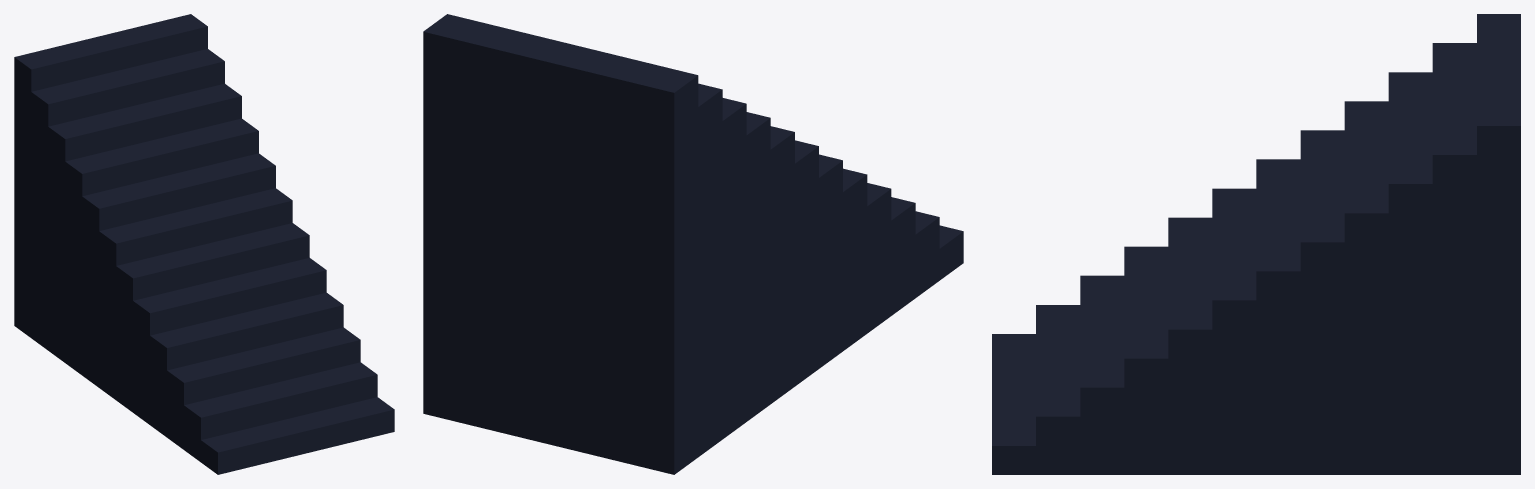
Rendered from Stairs_Straight.obj.
The picture shows the model from 3 angles, left to right: view 1: azimuth 30°, elevation 25°; view 2: azimuth 150°, elevation 25°; view 3: azimuth 270°, elevation 25°; orthographic projection. The views are drawn at different scales.
Visible parts, largest first — view 1: EXPORT_Stairs_Straight; view 2: EXPORT_Stairs_Straight; view 3: EXPORT_Stairs_Straight.
Part boxes in pixels (x1,y1,x2,y2): EXPORT_Stairs_Straight: (14, 14, 394, 474); EXPORT_Stairs_Straight: (423, 14, 963, 474); EXPORT_Stairs_Straight: (992, 14, 1520, 474).
Bounding box in the file's own units: 2.11 × 3.06 × 4.21.
